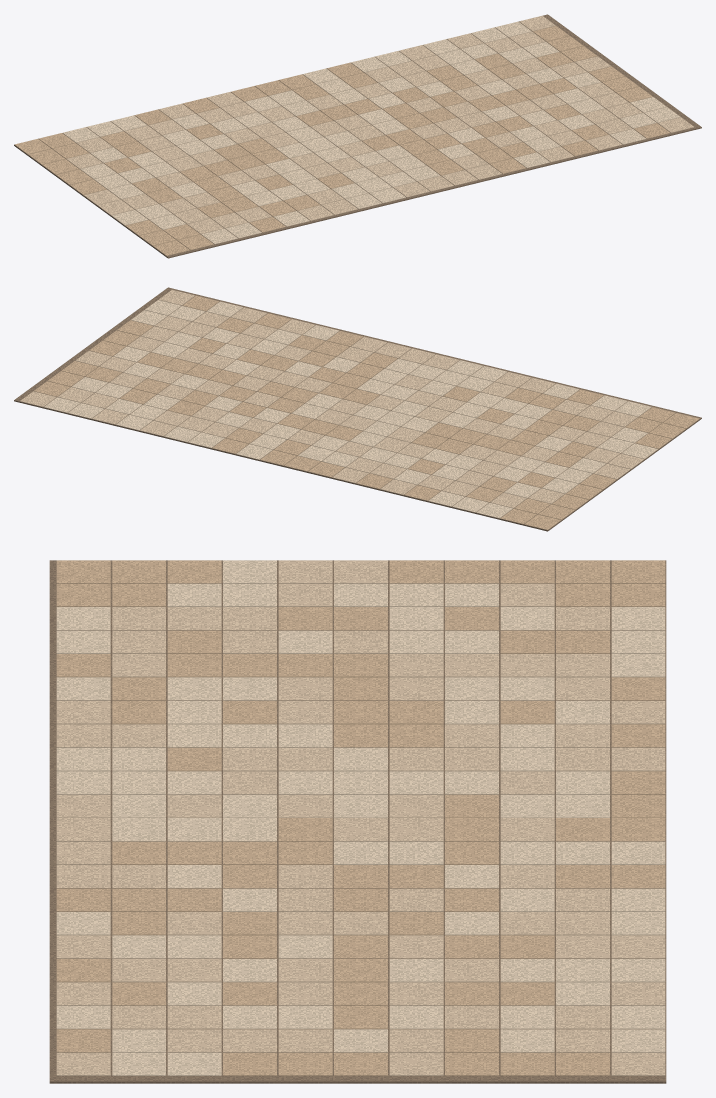
File: floor_tiles.glb
3 renders of one model, top to bottom at view 1: azimuth 30°, elevation 25°; view 2: azimuth 150°, elevation 25°; view 3: azimuth 270°, elevation 25°, orthographic. The views are drawn at different scales.
Parts seen in each view (by area): view 1: Floor; view 2: Floor; view 3: Floor.
Part boxes in pixels (x1,y1,x2,y2): Floor: (14, 14, 701, 258); Floor: (14, 287, 701, 531); Floor: (49, 560, 666, 1083).
Bounding box in the file's own units: 20 × 0.05 × 10.
4 materials, 4 textured.
